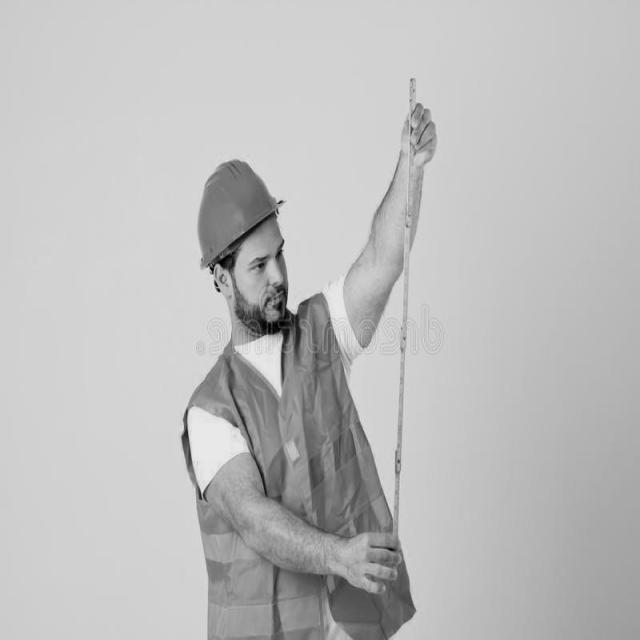face_nomask: (234, 226, 301, 344)
hand_noglove: (335, 519, 409, 604), (390, 97, 443, 183)
head_helmet: (194, 156, 279, 261)
person: (185, 97, 428, 640)
vest: (196, 332, 383, 630)
